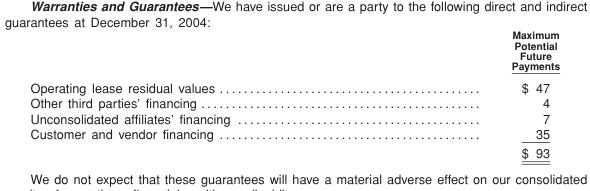table: (29, 28, 559, 160)
table column: (29, 28, 370, 160), (370, 28, 559, 160)
table column header: (29, 28, 559, 75)
table row: (29, 28, 559, 75), (29, 75, 559, 95), (29, 125, 559, 143), (29, 143, 559, 160), (29, 95, 559, 110), (29, 110, 559, 125)
